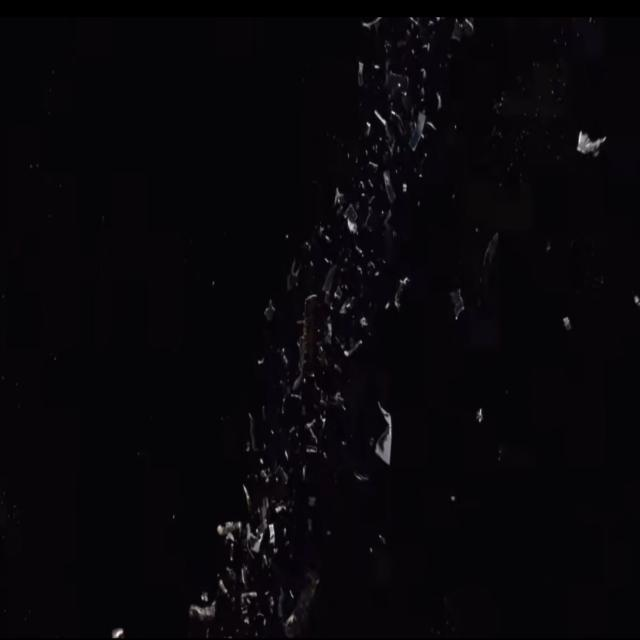large_debris: (292, 283, 322, 409), (370, 389, 398, 476), (571, 120, 608, 164), (187, 593, 217, 633), (404, 106, 428, 153), (447, 284, 470, 326), (380, 163, 400, 206)
